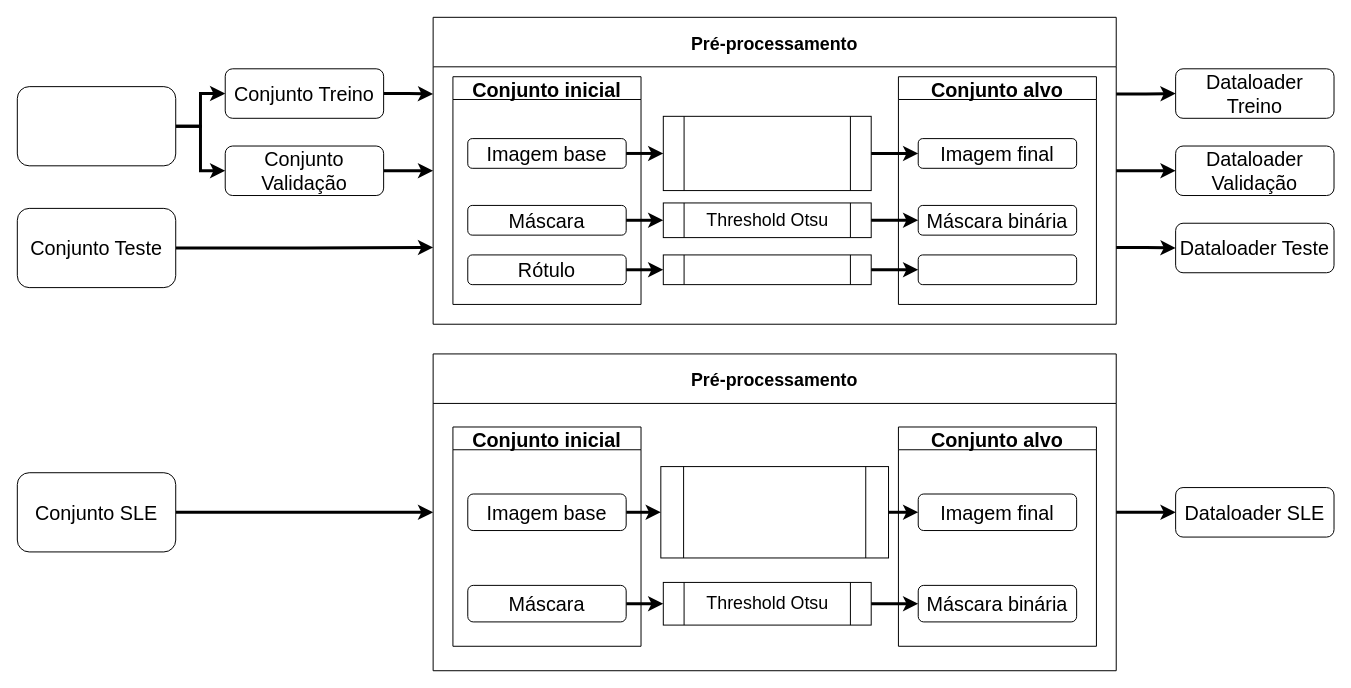
Image size: 1351x688. Some labels were removed from this diagram. The centre of each missing label's shape, as x and y in pixels:
Auto-contraste Grayscale2RGB Redimensionamento: point 766,153
ClassLabel: point 766,269
Conjunto Base: point 96,126
Normalização MinMax Auto-Constraste Grayscale2RGB Redimensionamento: point 774,512
Rótulo numérico: point 997,269
